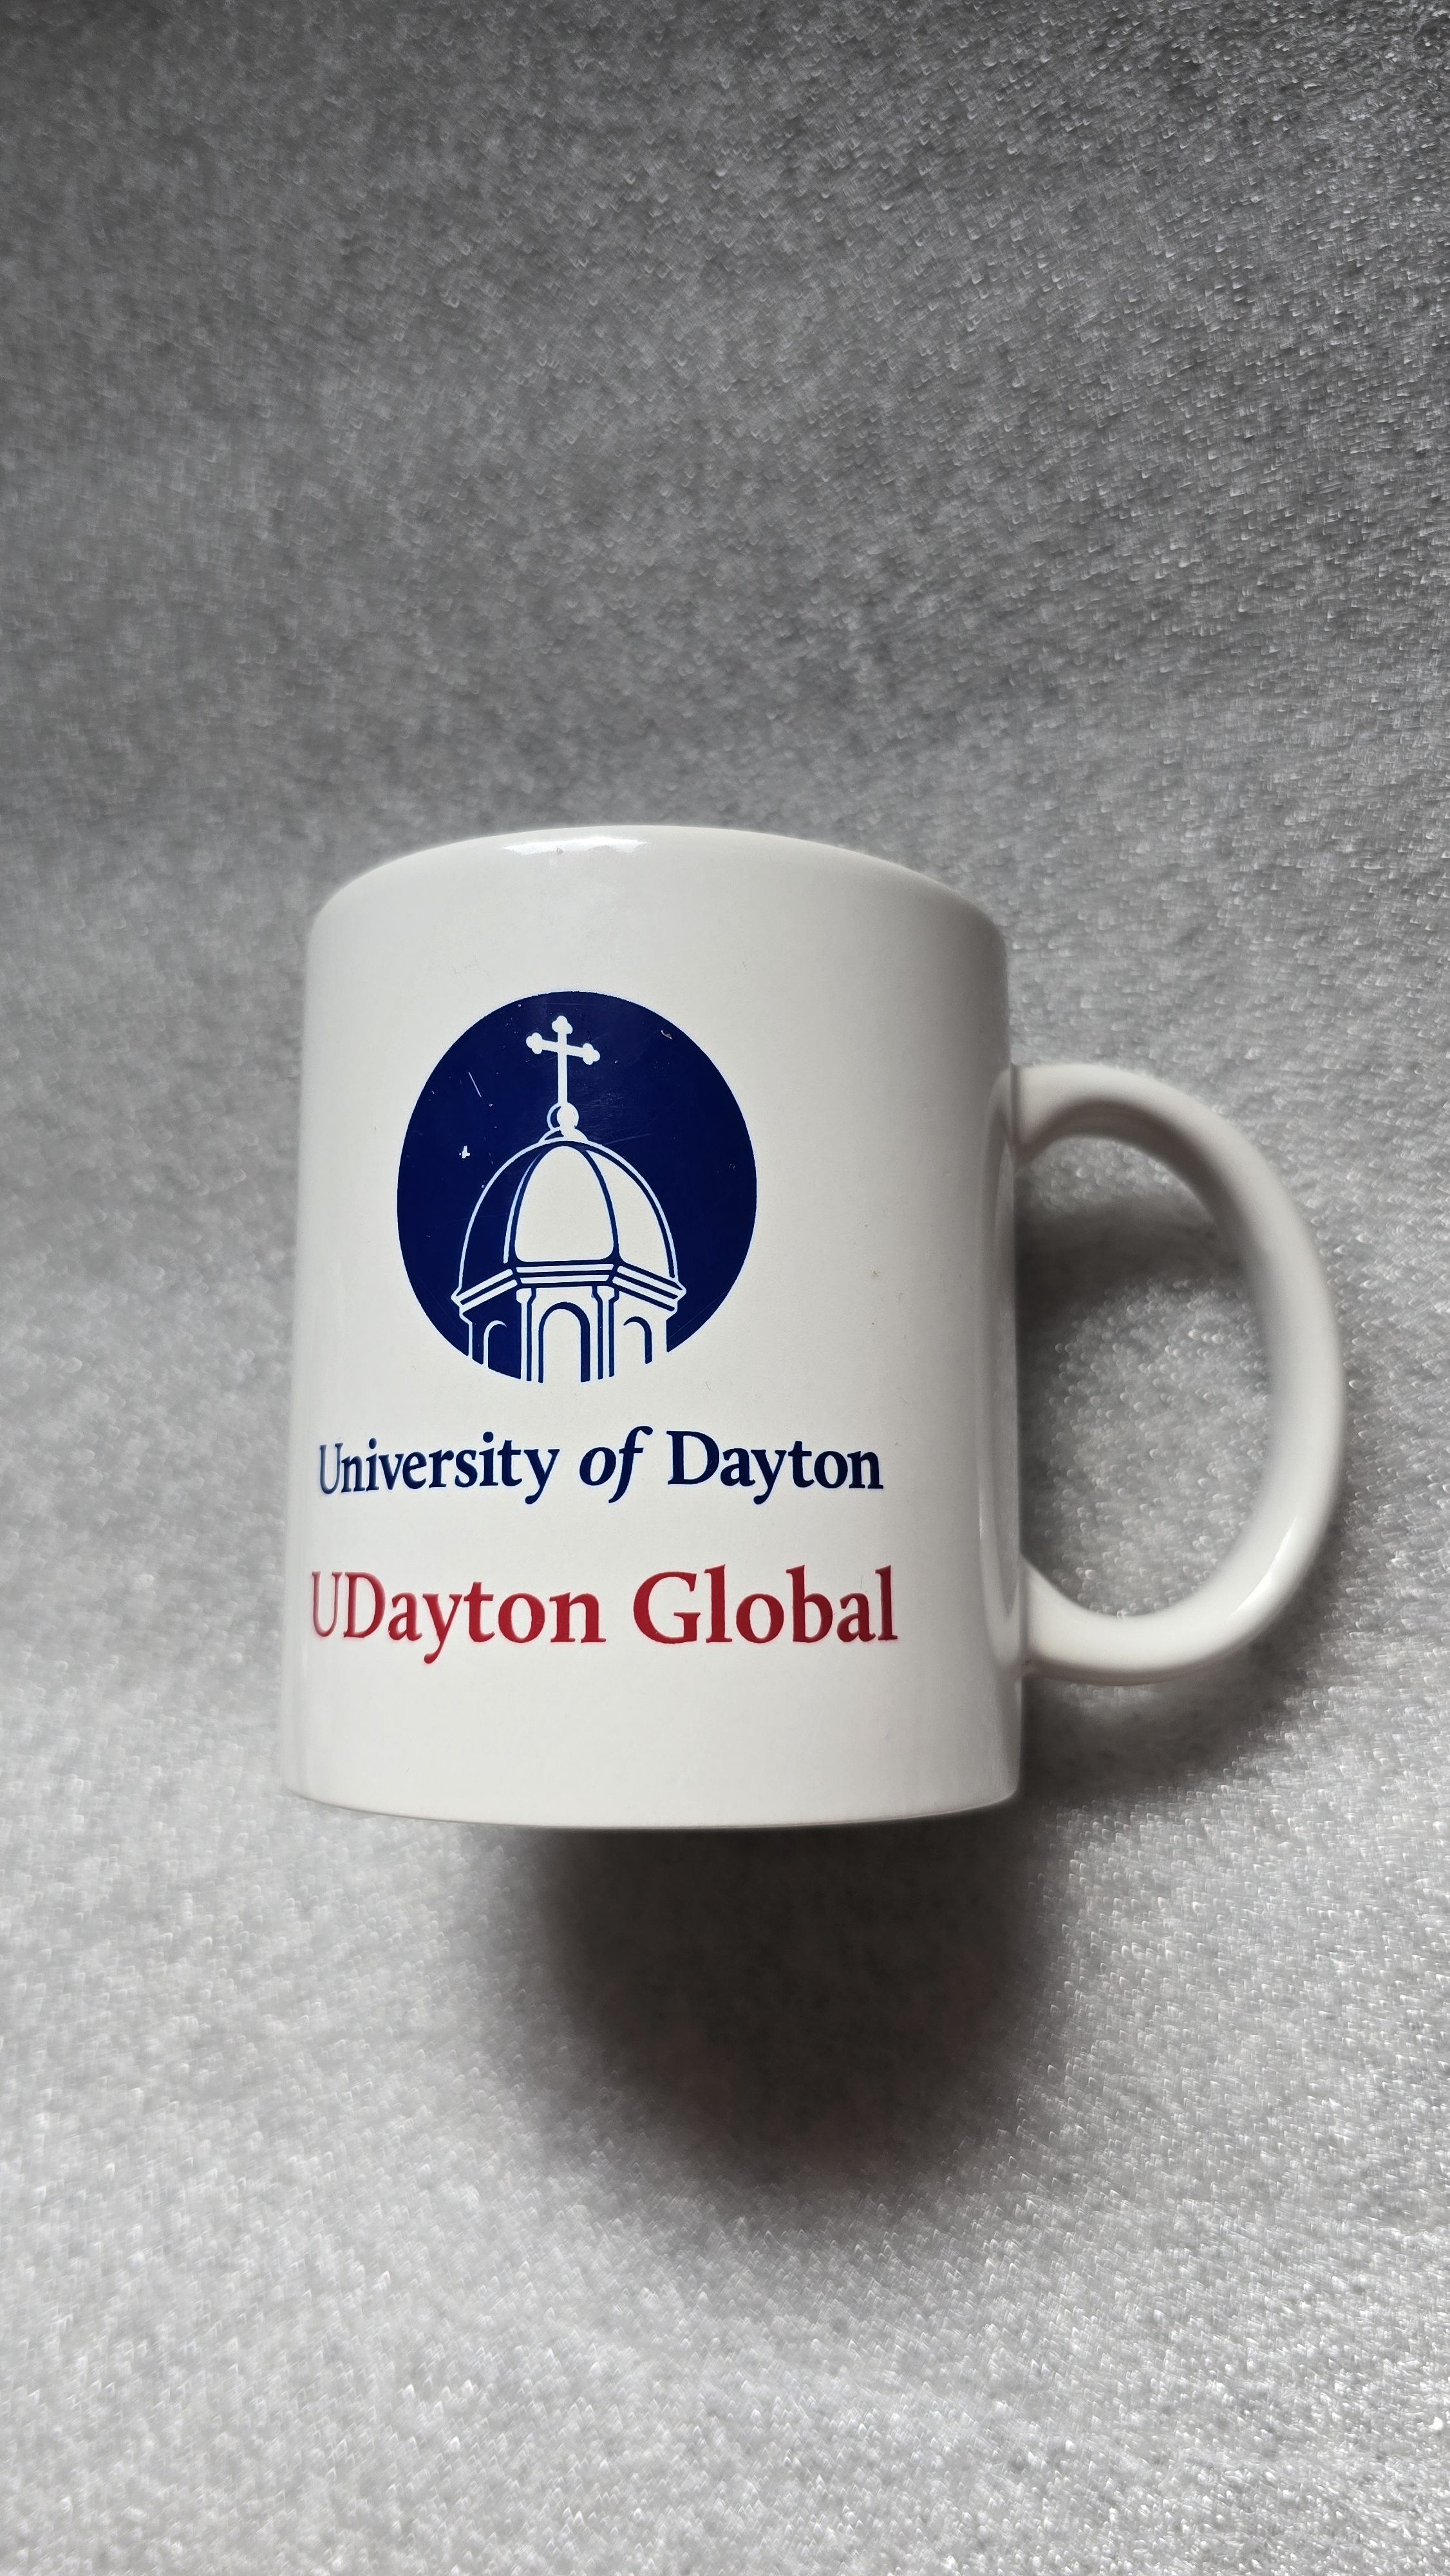mug: (283, 810, 1386, 1854)
